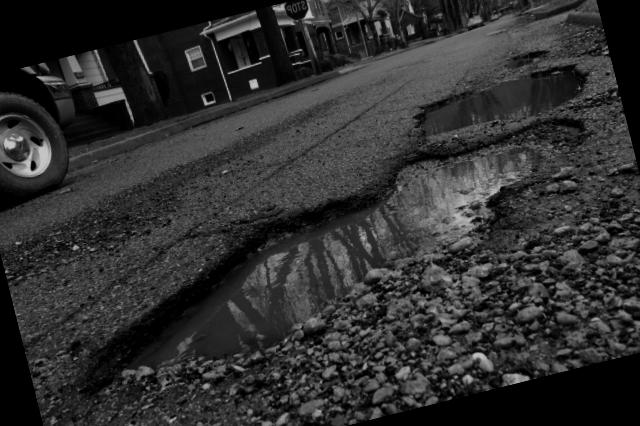Pothole: (33, 108, 627, 414), (381, 52, 596, 172), (501, 41, 554, 70)
